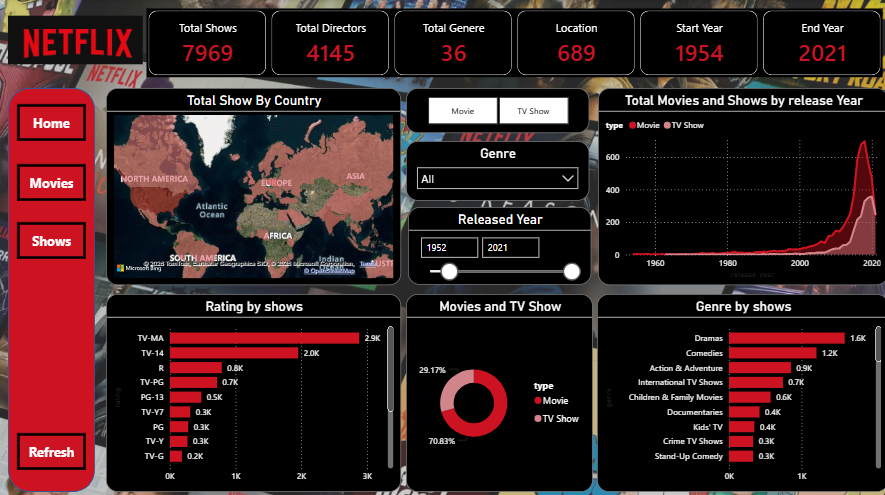

Layout of this report page (visuals, bound fields, positions):
{"tool":"powerbi","page":{"name":"Home","canvas":[1280,720],"ordinal":0},"visuals":[{"type":"image","box":[11.5,0,194.4,118.1],"z":0},{"type":"cardVisual","fields":{"Data":["Count(Cleaned_Data.title)","Count(Cleaned_Data.director)","Count(Cleaned_Data.genre)","Count(Cleaned_Data.country)","Min(Cleaned_Data.release_year)","Max(Cleaned_Data.release_year)1"]},"box":[205.9,8.6,1074.2,109.4],"z":1000},{"type":"areaChart","title":"Total Movies and Shows by release Year","fields":{"Category":["Cleaned_Data.release_year"],"Y":["CountNonNull(Cleaned_Data.title)"],"Series":["Cleaned_Data.type"]},"box":[861.7,127.7,418.3,283.9],"z":2000},{"type":"barChart","title":"Genre by shows","fields":{"Category":["Cleaned_Data.genre"],"Y":["CountNonNull(Cleaned_Data.title)"]},"box":[859.7,424.8,420.5,285.1],"z":3000},{"type":"donutChart","title":"Movies and TV Show","fields":{"Category":["Cleaned_Data.type"],"Y":["Count(Cleaned_Data.title)"]},"box":[584.6,424.8,269.3,285.1],"z":4000},{"type":"barChart","title":"Rating by shows","fields":{"Y":["CountNonNull(Cleaned_Data.title)"],"Category":["Cleaned_Data.rating"]},"box":[152.6,424.8,424.8,285.1],"z":5000},{"type":"slicer","fields":{"Values":["Cleaned_Data.type"]},"box":[584.6,128.2,263.5,64.8],"z":6000},{"type":"slicer","title":"Genre","fields":{"Values":["Cleaned_Data.genre"]},"box":[584.6,204.5,263.5,86.4],"z":7000},{"type":"slicer","title":"Released Year","fields":{"Values":["Cleaned_Data.release_year"]},"box":[587.5,299.5,263.5,112.3],"z":8000},{"type":"shape","box":[11.5,128.2,125.3,581.8],"z":8500},{"type":"filledMap","title":"Total Show By Country","fields":{"Category":["Cleaned_Data.country"]},"box":[152.6,128.2,424.8,283.7],"z":9000},{"type":"actionButton","box":[24.5,151.2,99.4,53.3],"z":11000},{"type":"actionButton","box":[24.5,237.6,99.4,53.3],"z":12000},{"type":"actionButton","box":[24.5,321.1,99.4,53.3],"z":13000},{"type":"actionButton","box":[24.5,625,99.4,53.3],"z":14000}]}

Visuals, with their boxes in screenshot pixels (x1, y1, x2, y2), scaled from the page's 1280x720 canvas onto the 885x495 screenshot:
image: detection(8, 0, 142, 81)
cardVisual - Count(Cleaned_Data.title) x Count(Cleaned_Data.director): detection(142, 6, 884, 81)
"Total Movies and Shows by release Year" areaChart: detection(596, 88, 884, 283)
"Genre by shows" barChart: detection(594, 292, 884, 488)
"Movies and TV Show" donutChart: detection(404, 292, 590, 488)
"Rating by shows" barChart: detection(106, 292, 399, 488)
slicer - Cleaned_Data.type: detection(404, 88, 586, 133)
"Genre" slicer: detection(404, 141, 586, 200)
"Released Year" slicer: detection(406, 206, 588, 283)
shape: detection(8, 88, 95, 488)
"Total Show By Country" filledMap: detection(106, 88, 399, 283)
actionButton: detection(17, 104, 86, 141)
actionButton: detection(17, 163, 86, 200)
actionButton: detection(17, 221, 86, 257)
actionButton: detection(17, 430, 86, 466)
